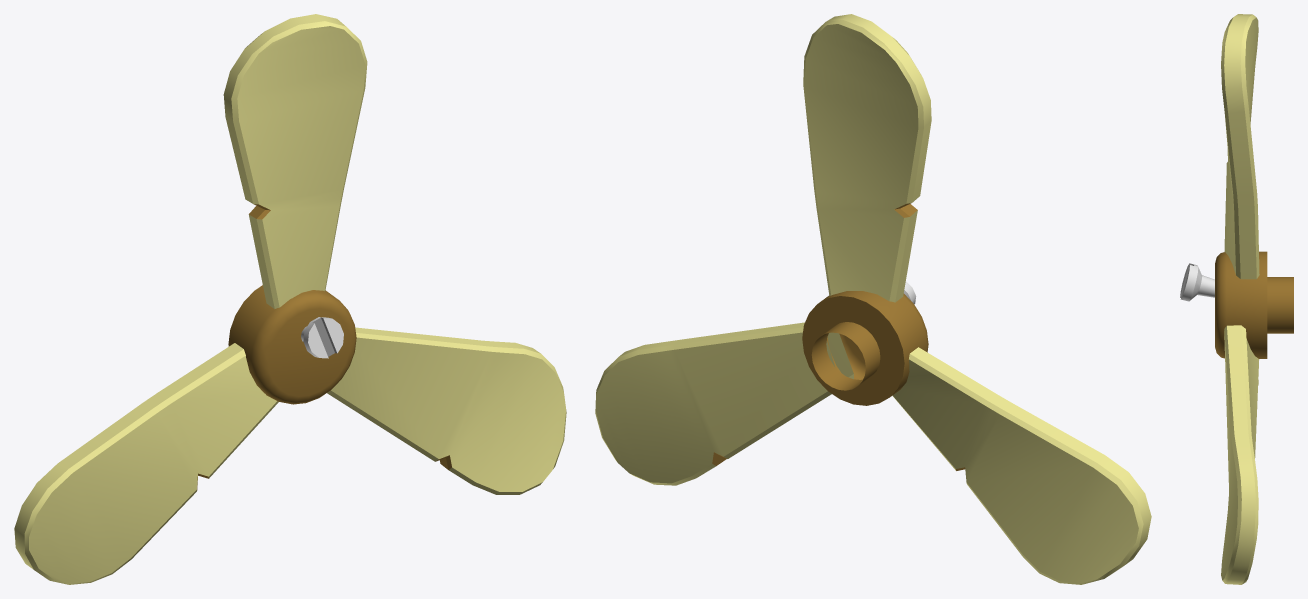
Rendered from propeller_wood_1.fbx.
The picture shows the model from 3 angles, left to right: view 1: azimuth 30°, elevation 25°; view 2: azimuth 150°, elevation 25°; view 3: azimuth 270°, elevation 25°; orthographic projection. The views are drawn at different scales.
Visible parts, largest first — view 1: propeller_wood_1; view 2: propeller_wood_1; view 3: propeller_wood_1.
Part boxes in pixels (x1,y1,x2,y2): propeller_wood_1: (14,14,566,584); propeller_wood_1: (595,14,1151,584); propeller_wood_1: (1180,14,1293,584).
Bounding box in the file's own units: 170 × 154 × 33.89.
